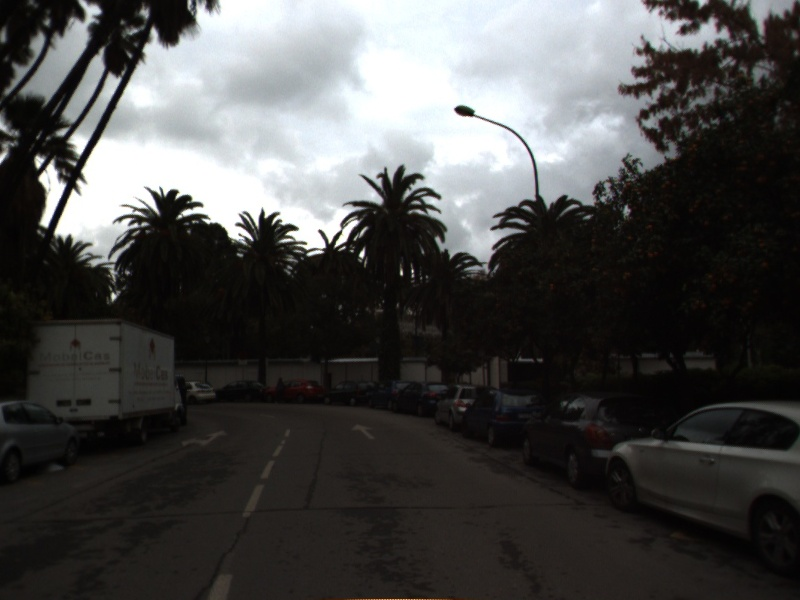STRAIGHT: (349, 422, 378, 441)
STRAIGHT_LEFT: (178, 428, 231, 450)
